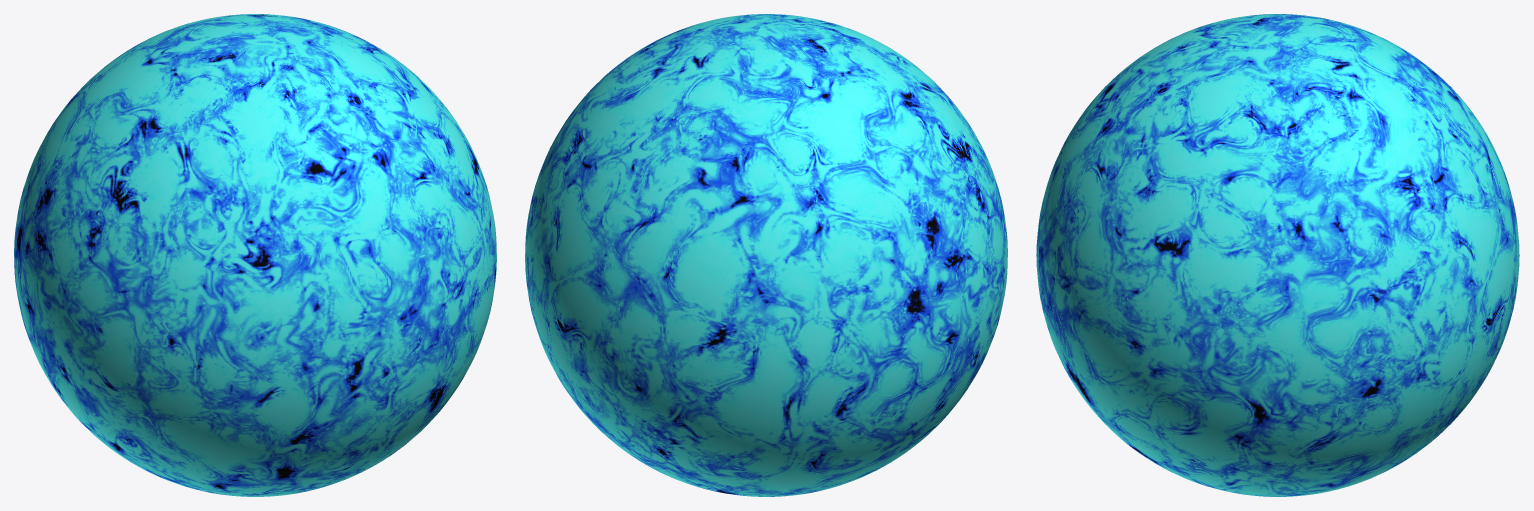
Rendered from DraugrSystemFBX.fbx.
3 views of the same model, side by side, from view 1: azimuth 30°, elevation 25°; view 2: azimuth 150°, elevation 25°; view 3: azimuth 270°, elevation 25° (orthographic).
Parts seen in each view (by area): view 1: surface-heltyr; view 2: surface-heltyr; view 3: surface-heltyr.
Boxes of the visible parts, bbox=[...] form: surface-heltyr: bbox=[14, 14, 496, 496]; surface-heltyr: bbox=[525, 14, 1007, 496]; surface-heltyr: bbox=[1036, 14, 1519, 496].
Bounding box in the file's own units: 2837 × 2837 × 2837.
